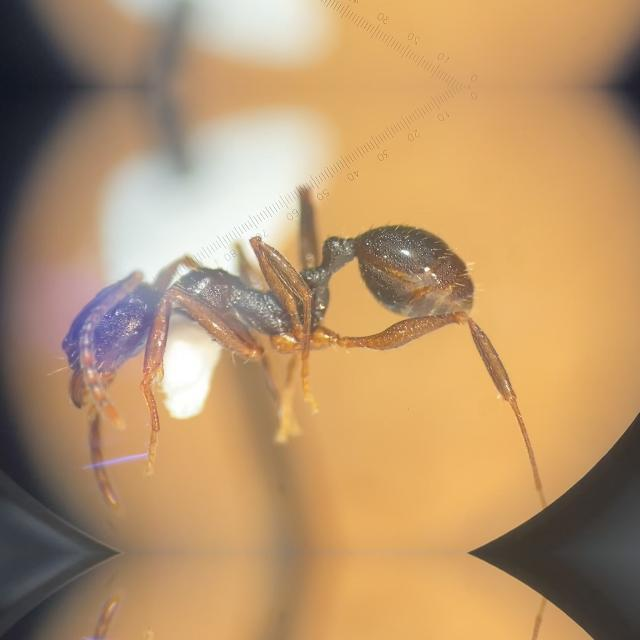Apheanogaster: (14, 176, 526, 444)
